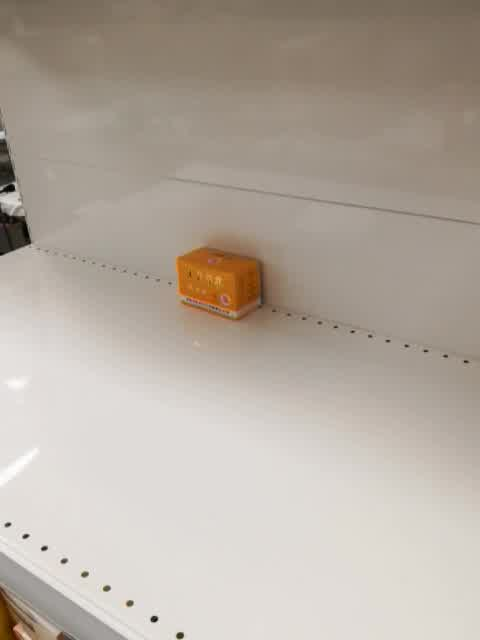jasminetea: (175, 244, 264, 323)
